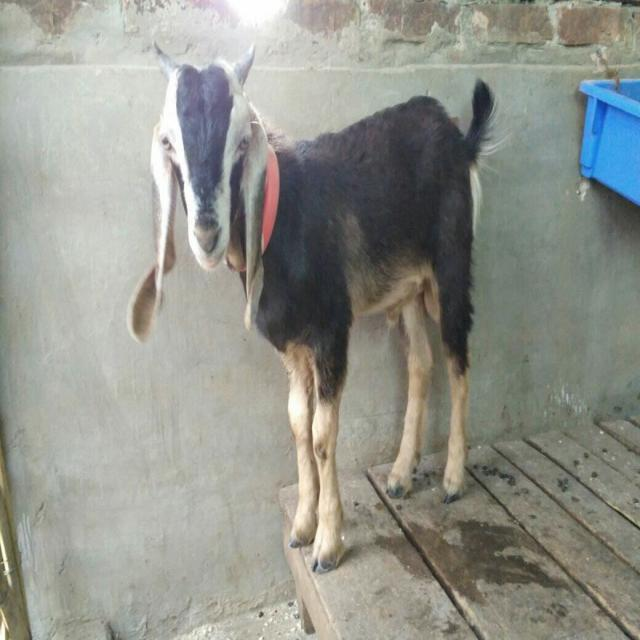Goat: (125, 40, 509, 574)
